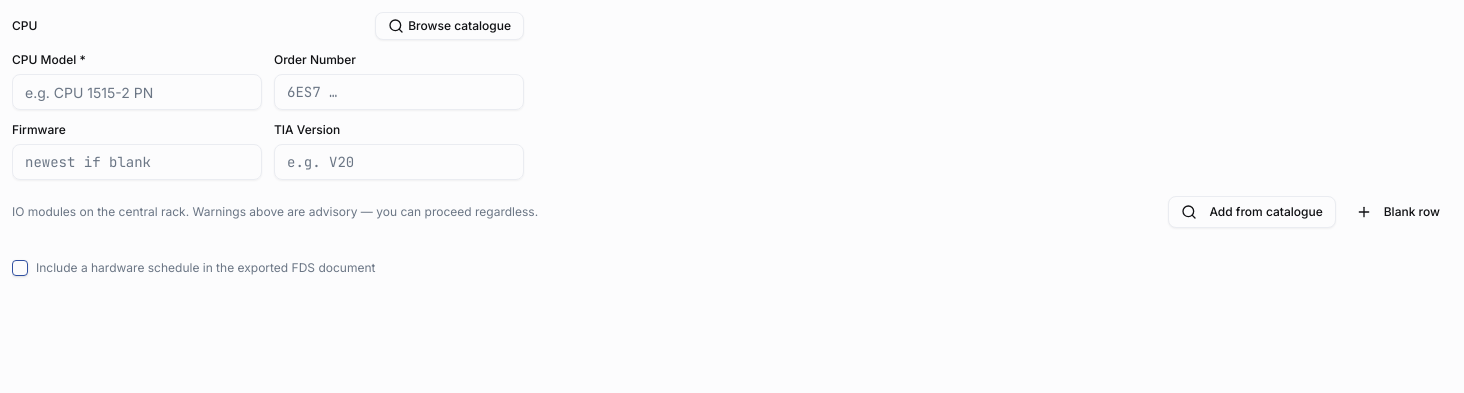
it: HardwareStep — catalogue picker (G0-17) › tells the user to hand-enter when the bridge is unreachable
Click the button "Browse catalogue": (450,26) [375, 12, 524, 40]
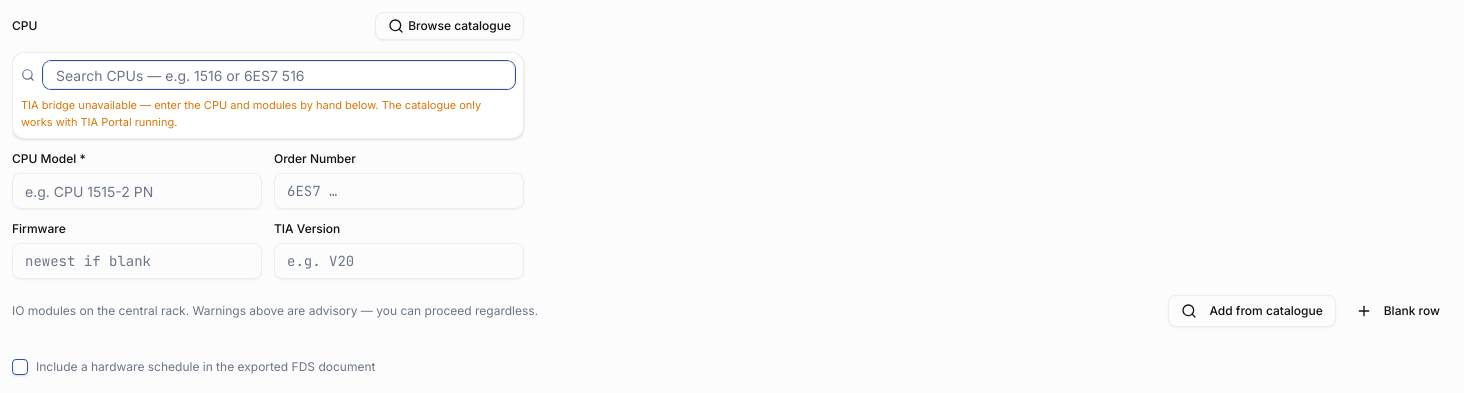
Now the text "bridge unavailable" is shown, box [21, 98, 481, 128]
